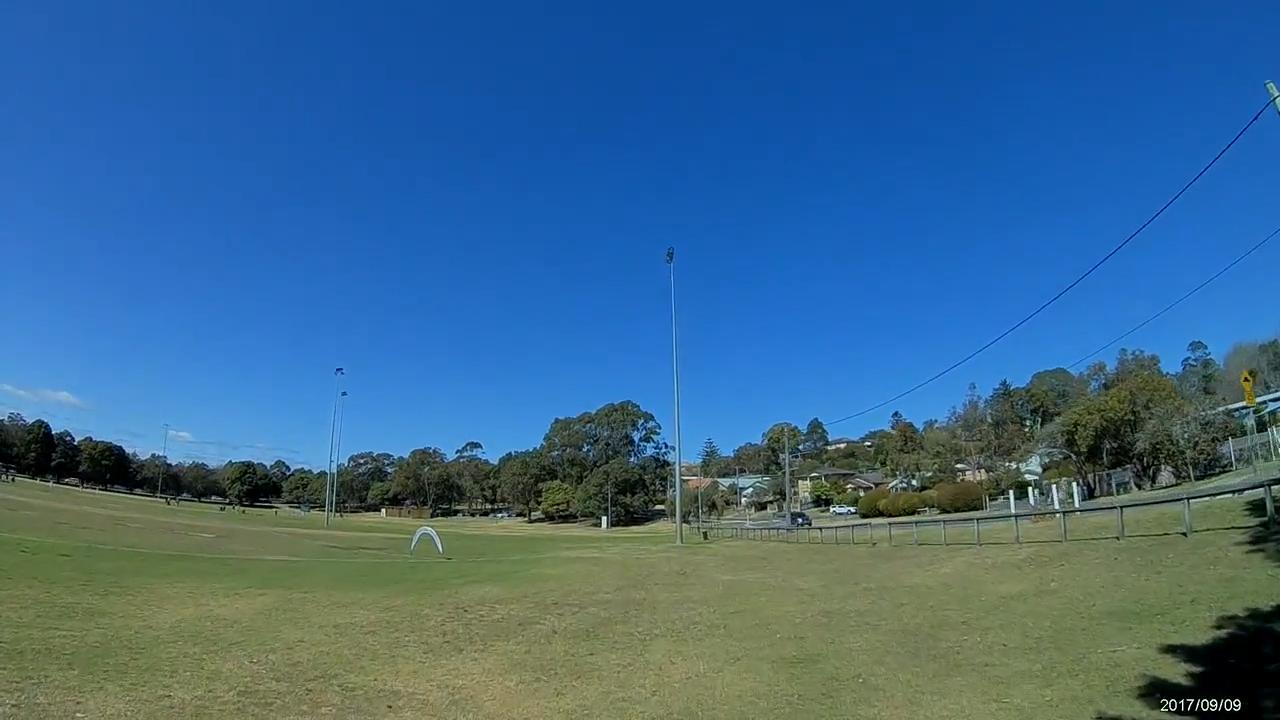gate: (406, 526, 443, 557)
